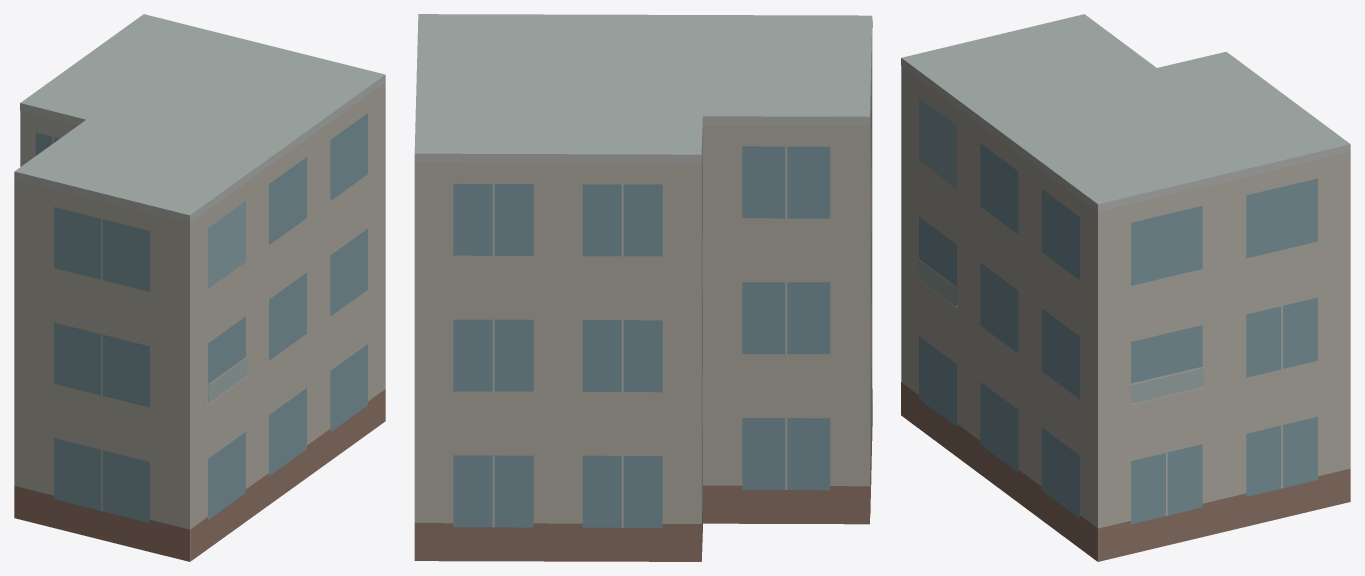
Rendered from survey-upis-32695234.glb.
The picture shows the model from 3 angles, left to right: view 1: azimuth 30°, elevation 25°; view 2: azimuth 150°, elevation 25°; view 3: azimuth 270°, elevation 25°; orthographic projection. The views are drawn at different scales.
Visible parts, largest first — view 1: survey-upis-32695234.tmp; view 2: survey-upis-32695234.tmp; view 3: survey-upis-32695234.tmp.
Part boxes in pixels (box(x1,y1,x2,y2)): survey-upis-32695234.tmp: box(14, 14, 385, 561); survey-upis-32695234.tmp: box(414, 14, 872, 561); survey-upis-32695234.tmp: box(901, 14, 1350, 561).
Bounding box in the file's own units: 12.56 × 11 × 12.54.
